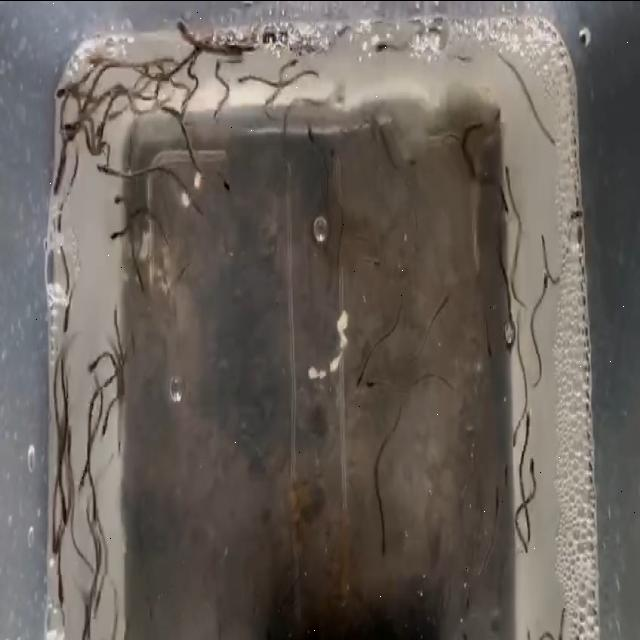inactive_glass_eel: (484, 467, 504, 522), (52, 490, 76, 535), (300, 116, 322, 164), (494, 180, 514, 232), (176, 17, 198, 63), (210, 156, 232, 192), (502, 149, 516, 204), (344, 358, 368, 388), (210, 58, 228, 96), (83, 344, 99, 386), (362, 33, 389, 57), (52, 566, 67, 608), (235, 67, 251, 106), (536, 260, 550, 302), (537, 224, 551, 266), (377, 517, 392, 555), (506, 414, 520, 454), (528, 446, 540, 488), (96, 408, 112, 438), (485, 318, 497, 358), (432, 294, 452, 318), (59, 293, 74, 323), (56, 77, 72, 105), (96, 160, 114, 182), (108, 220, 124, 241), (110, 185, 124, 208), (62, 108, 73, 136), (368, 369, 380, 394), (501, 458, 513, 482), (520, 406, 534, 424), (287, 54, 299, 70)
